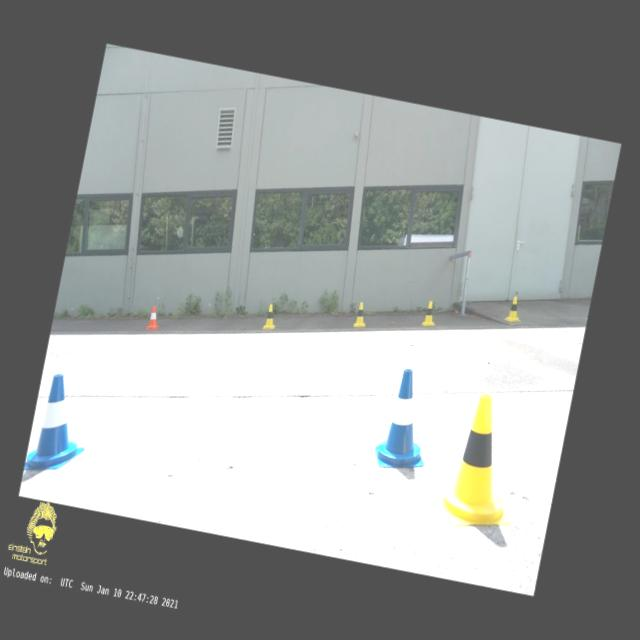blue_cone: (23, 370, 98, 482), (372, 365, 442, 476)
orange_cone: (145, 305, 163, 333)
yellow_cone: (432, 388, 534, 536), (503, 294, 525, 324), (421, 299, 440, 328), (352, 302, 370, 330), (262, 303, 280, 331)
